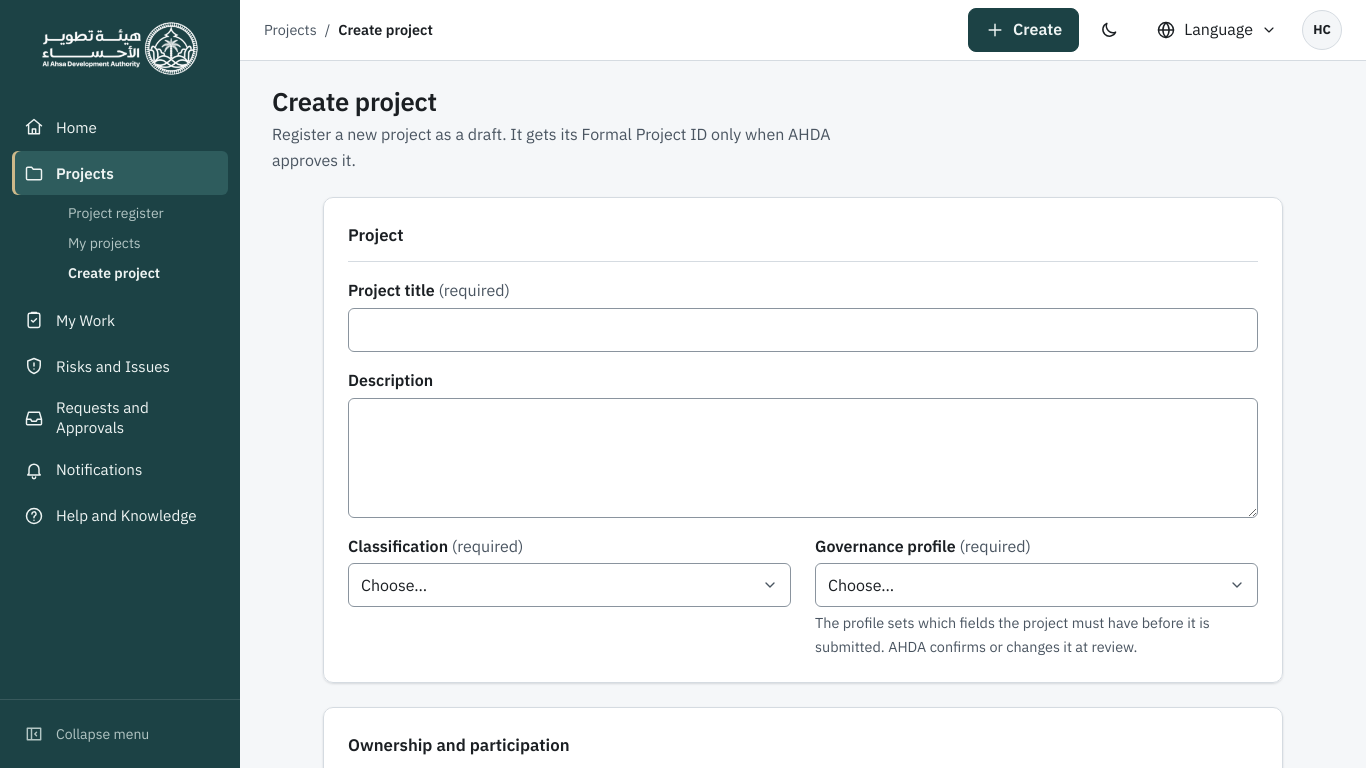
Test case: SCR-033 Create Project › an external entity user registers for their own entity (ADR-013 as amended)
Type "Entity depot" into the field labelled "Project title (required)" at [803, 330], box [348,308,1258,352]
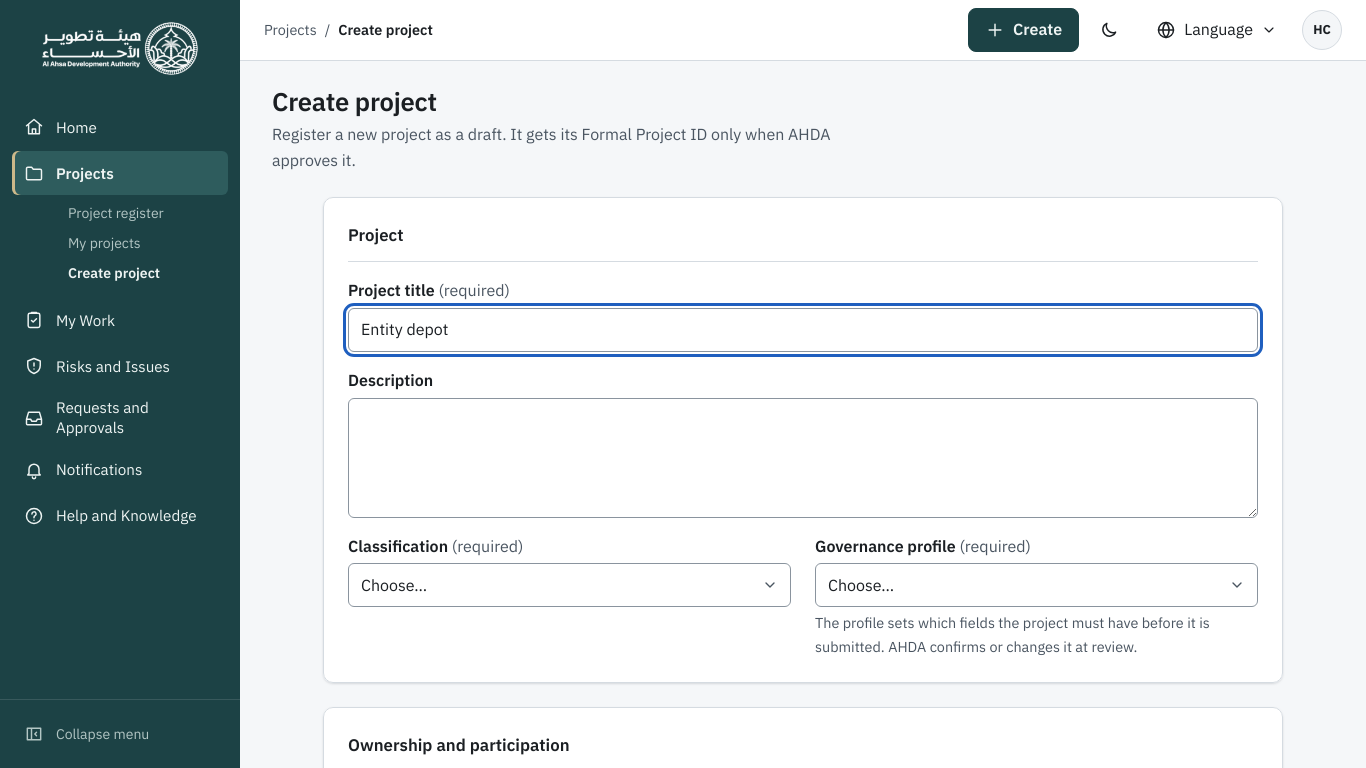
Select "Infrastructure" in the dropdown labelled "Classification (required)" at [570, 586], box [348,564,791,608]
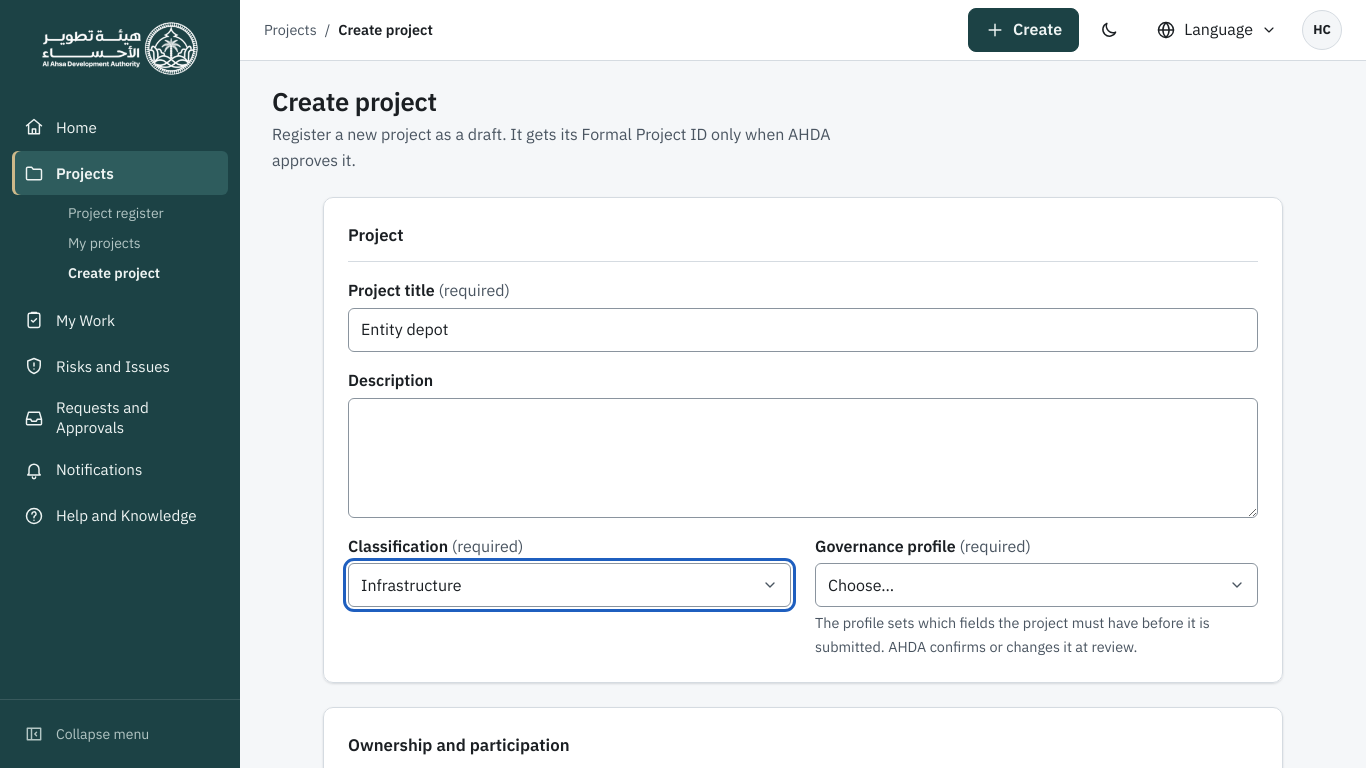
Select "Light" in the dropdown labelled "Governance profile (required)" at [1036, 586], box [815,564,1258,608]
(page scrolled)
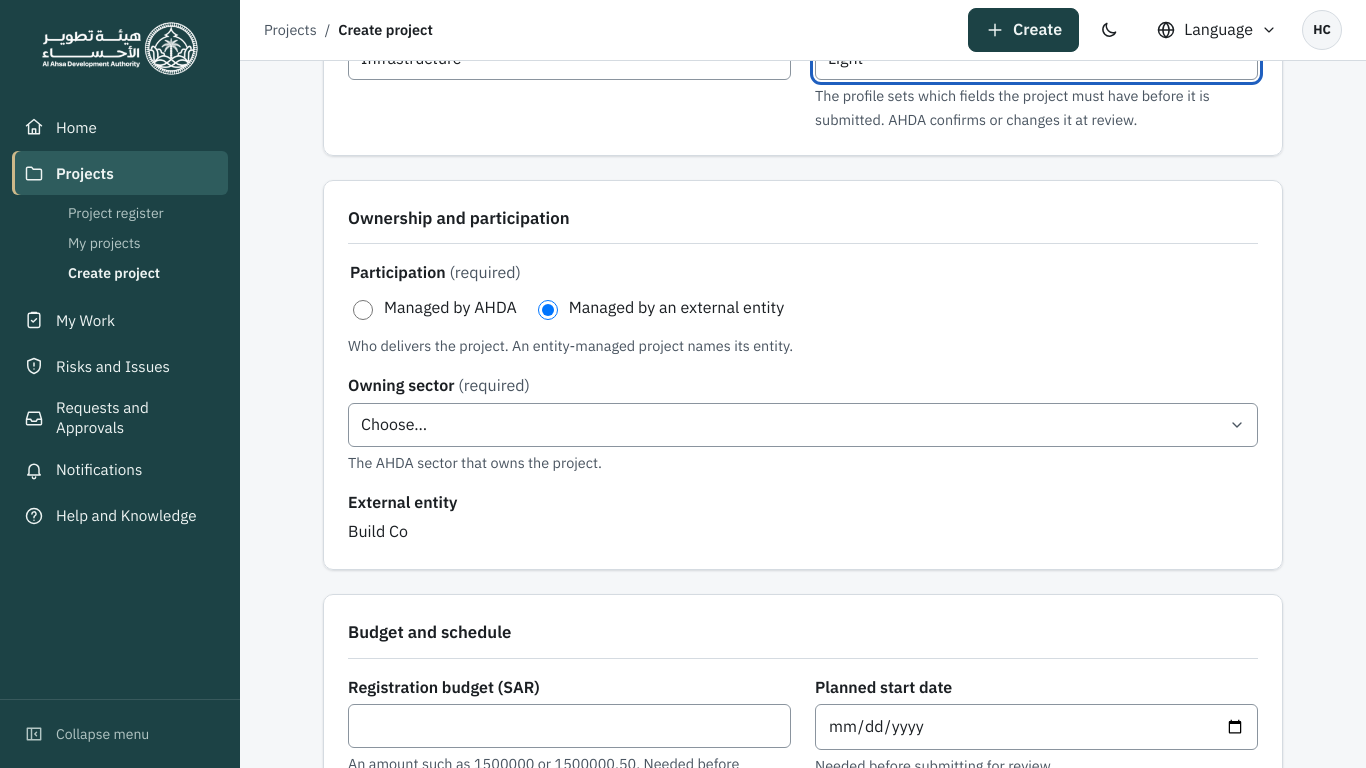
Select "Roads Department" in the dropdown labelled "Owning sector (required)" at [803, 425], box [348,403,1258,447]
(page scrolled)
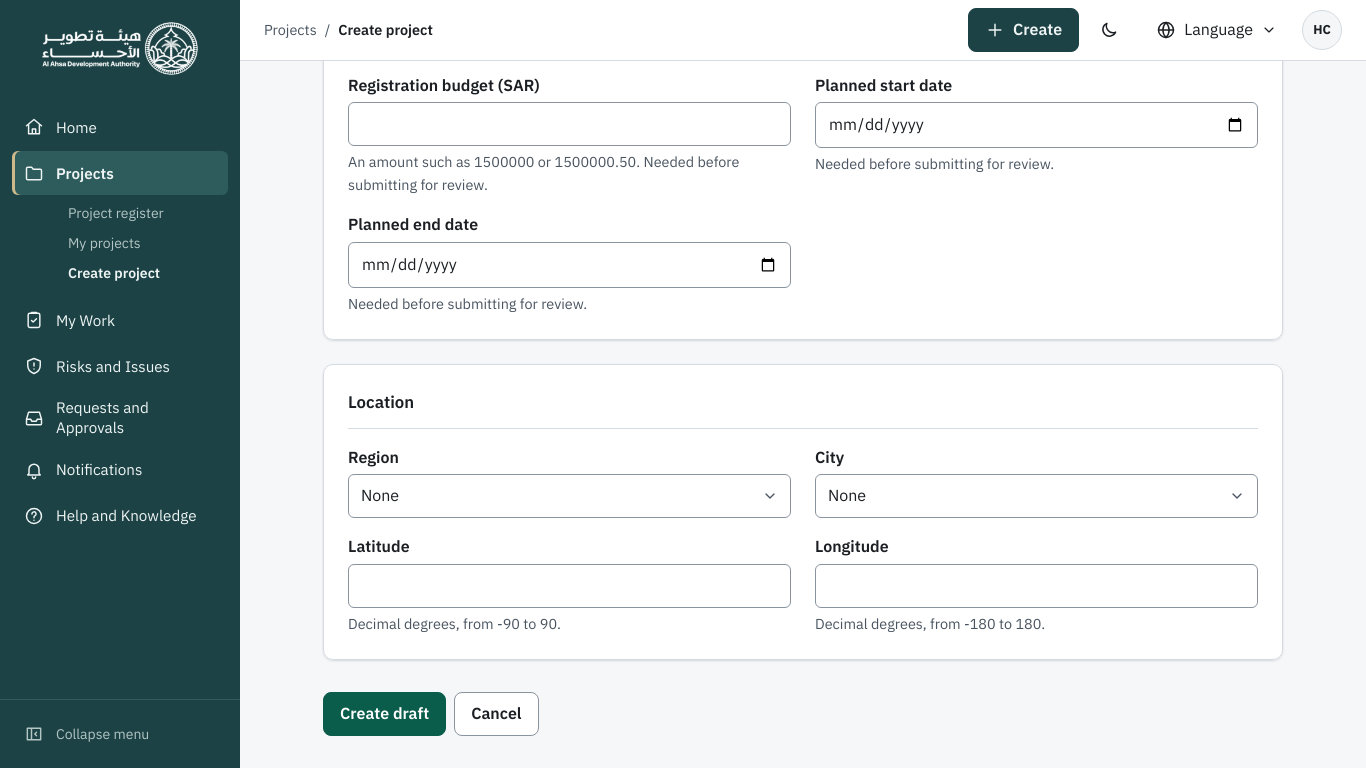
Expected: the dropdown labelled "External entity" is not shown
Click the button "Create draft" at [385, 714], box [323,692,446,736]
(page scrolled)
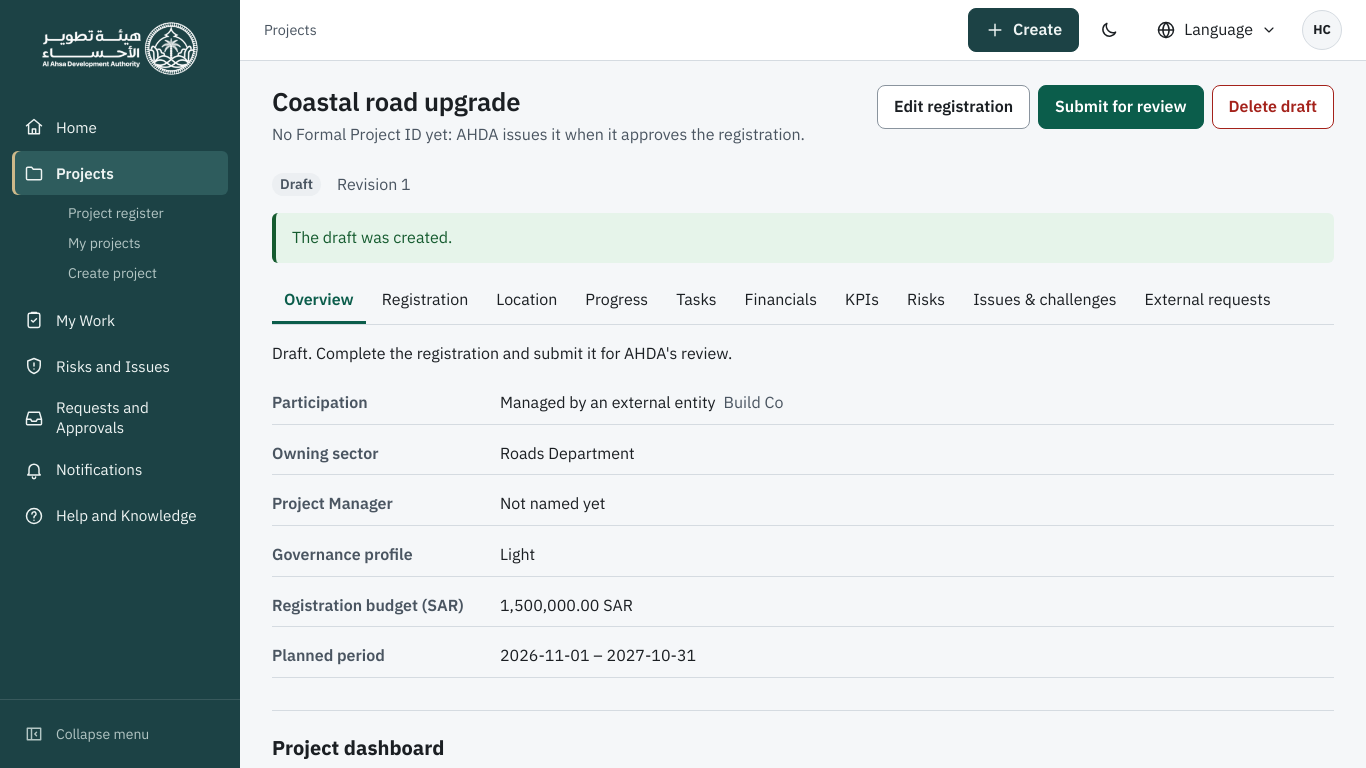
Expected: the text "The draft was created." is shown, [272,214,1334,263]
